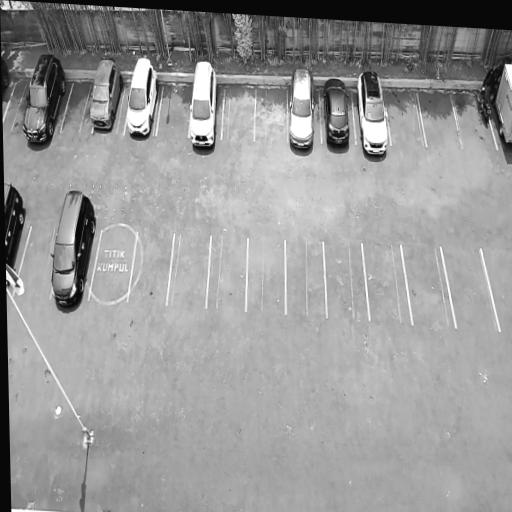Car: (48, 188, 100, 313), (21, 53, 71, 149), (122, 54, 162, 142), (353, 68, 391, 159), (187, 59, 220, 154), (88, 54, 126, 133), (4, 177, 29, 296), (289, 65, 318, 153), (321, 76, 353, 152), (488, 48, 512, 149)
Space Available: (441, 243, 500, 332), (400, 241, 456, 326), (363, 242, 412, 324), (88, 229, 138, 305), (324, 240, 369, 320), (13, 224, 58, 300), (167, 233, 211, 308), (128, 232, 173, 305), (286, 239, 326, 318), (247, 236, 287, 314), (207, 235, 248, 310), (384, 86, 427, 146), (419, 88, 462, 148), (156, 82, 192, 139), (254, 82, 287, 143), (60, 77, 95, 133), (222, 85, 255, 141), (3, 71, 32, 131)
